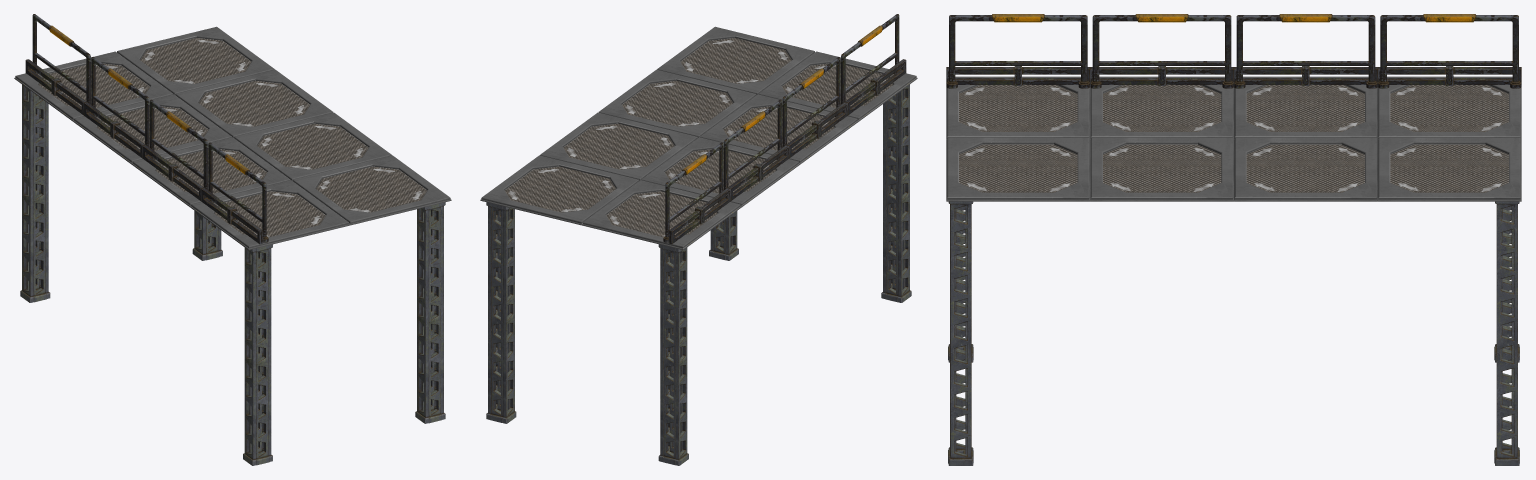
File: SM_Long_Platform.fbx
The picture shows the model from 3 angles, left to right: view 1: azimuth 30°, elevation 25°; view 2: azimuth 150°, elevation 25°; view 3: azimuth 270°, elevation 25°; orthographic projection. The views are drawn at different scales.
Visible parts, largest first — view 1: SM_Long_Platform_LOD0; view 2: SM_Long_Platform_LOD0; view 3: SM_Long_Platform_LOD0.
Part boxes in pixels (x1,y1,x2,y2): SM_Long_Platform_LOD0: (14, 14, 451, 465); SM_Long_Platform_LOD0: (480, 14, 917, 465); SM_Long_Platform_LOD0: (946, 14, 1521, 465).
Bounding box in the file's own units: 400 × 800 × 528.
Materials: 2 (2 with a texture image).
